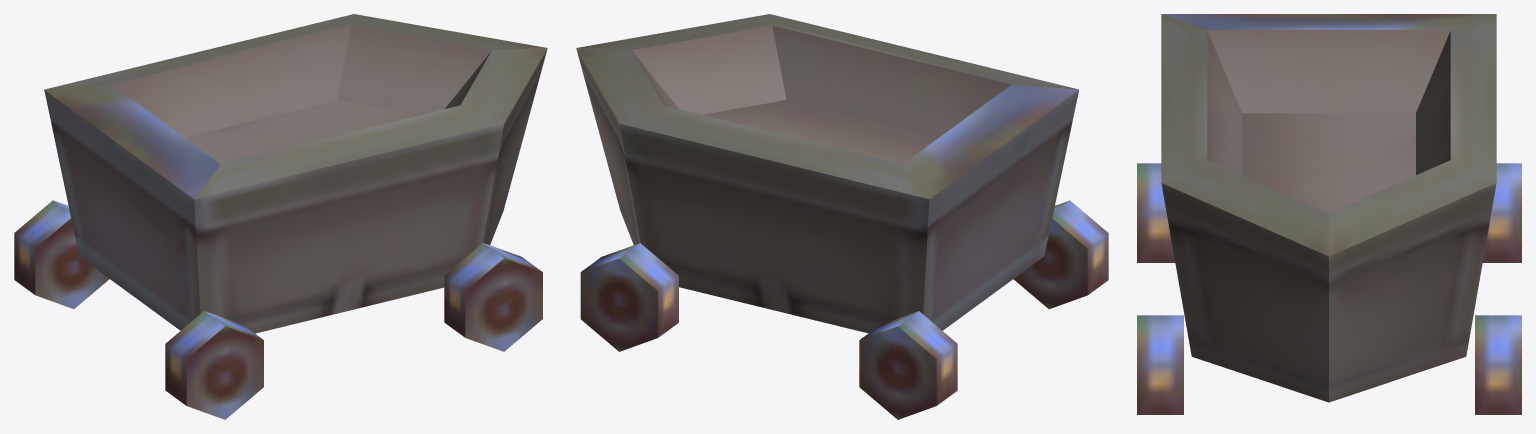
File: field_Buildings_002c.fbx
The picture shows the model from 3 angles, left to right: view 1: azimuth 30°, elevation 25°; view 2: azimuth 150°, elevation 25°; view 3: azimuth 270°, elevation 25°; orthographic projection. The views are drawn at different scales.
Visible parts, largest first — view 1: field_Buildings_002c; view 2: field_Buildings_002c; view 3: field_Buildings_002c.
Part boxes in pixels (x1,y1,x2,y2): field_Buildings_002c: [14, 14, 547, 419]; field_Buildings_002c: [576, 14, 1108, 419]; field_Buildings_002c: [1137, 14, 1521, 414].
Bounding box in the file's own units: 55.87 × 27.06 × 37.29.
